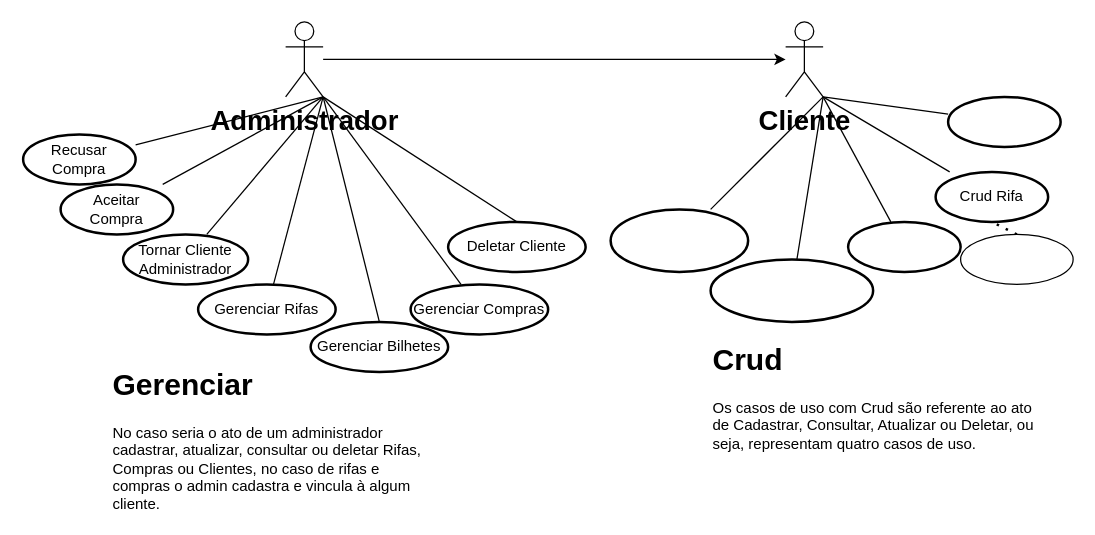
Image size: 1095x535. Some labels were removed from this diagram. The shapes that lost their labels are listed below. From the top down, each one's centre as x and y in pixels, then its label:
At point 1003,121: "Login".
At point 679,240: "Consultar Vendas Bilhetes".
At point 903,246: "Crud Cliente".
At point 1016,258: "Criar Bilhetes".
At point 791,290: "Realizar Compra de Bilhetes".
